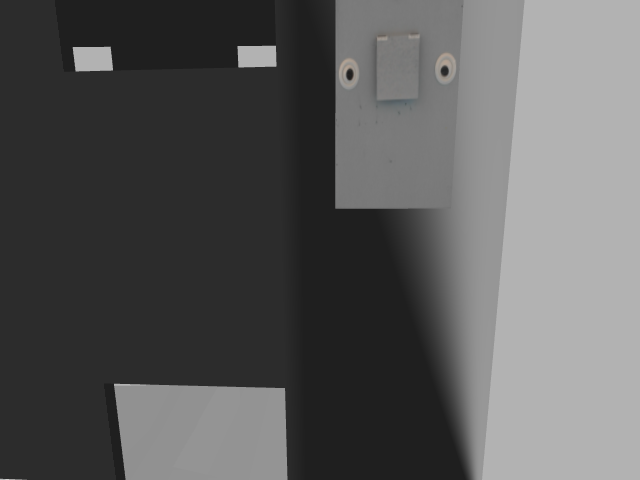facade: (338, 32, 458, 104)
